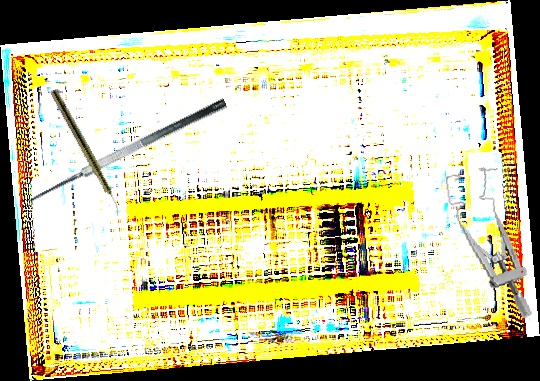Handpiece: (48, 88, 126, 218)
Spatula Surgical: (24, 96, 236, 217)
Speculum: (443, 161, 535, 328)
